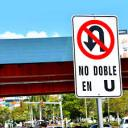NoVirarU: (76, 19, 116, 61)
